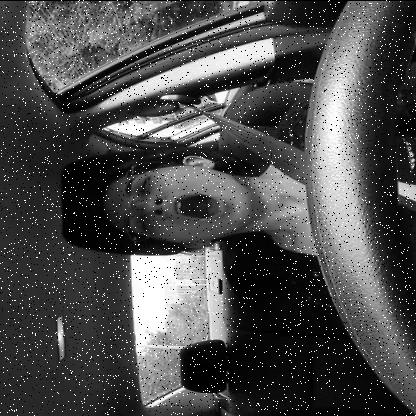seatbelt: (66, 92, 416, 259)
